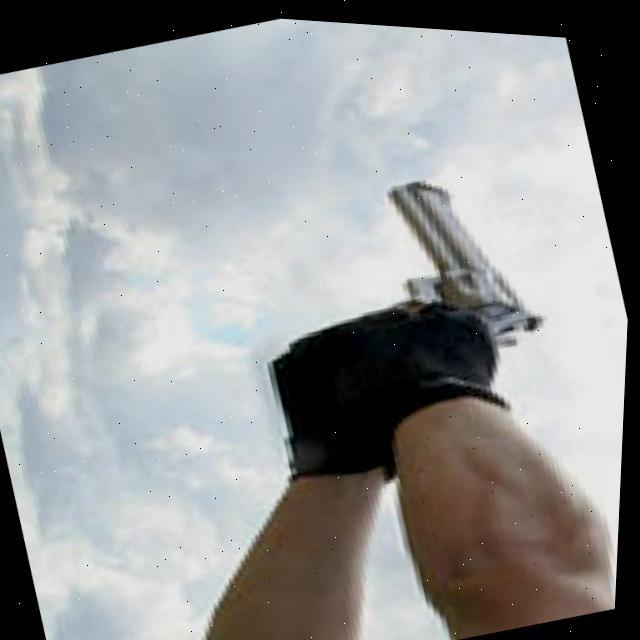gun: (360, 144, 560, 378)
